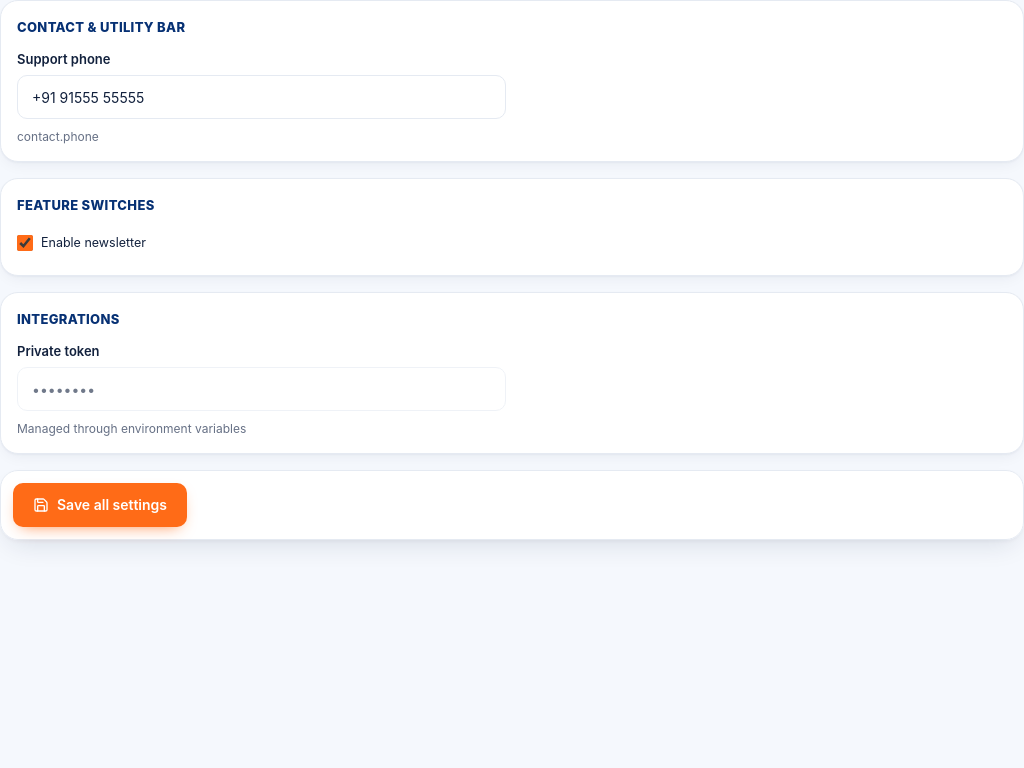
Test: SettingsForm › submits edited dotted settings as canonical flat keys
Replace the text in the field labelled "Support phone" with "+91 90000 00000" at {"x": 262, "y": 97}, box [17,75,506,119]
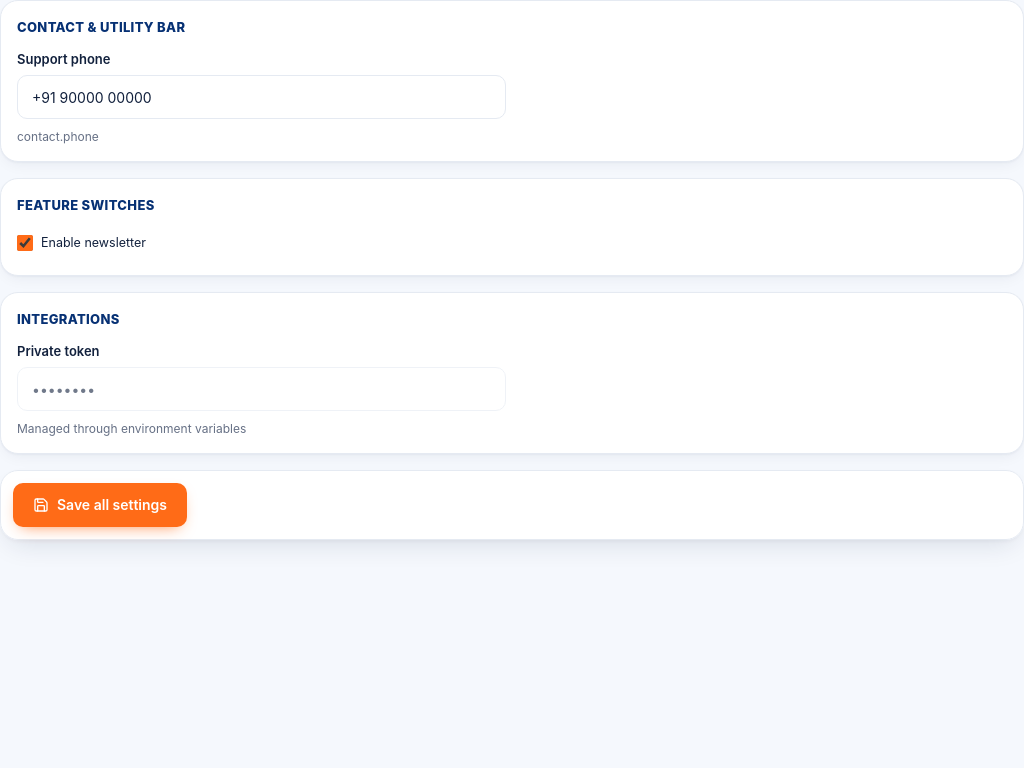
Click the checkbox labelled "Enable newsletter" at {"x": 25, "y": 243}, box [17,235,33,251]
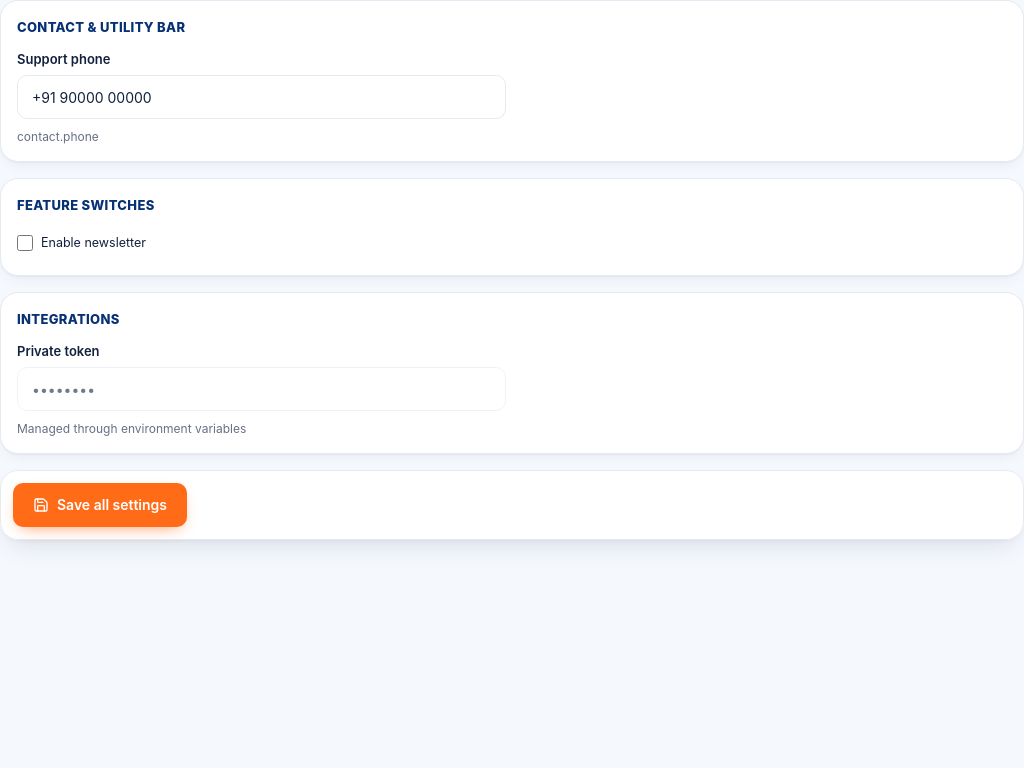
Click the button "Save all settings" at {"x": 100, "y": 505}, box [13,483,187,527]
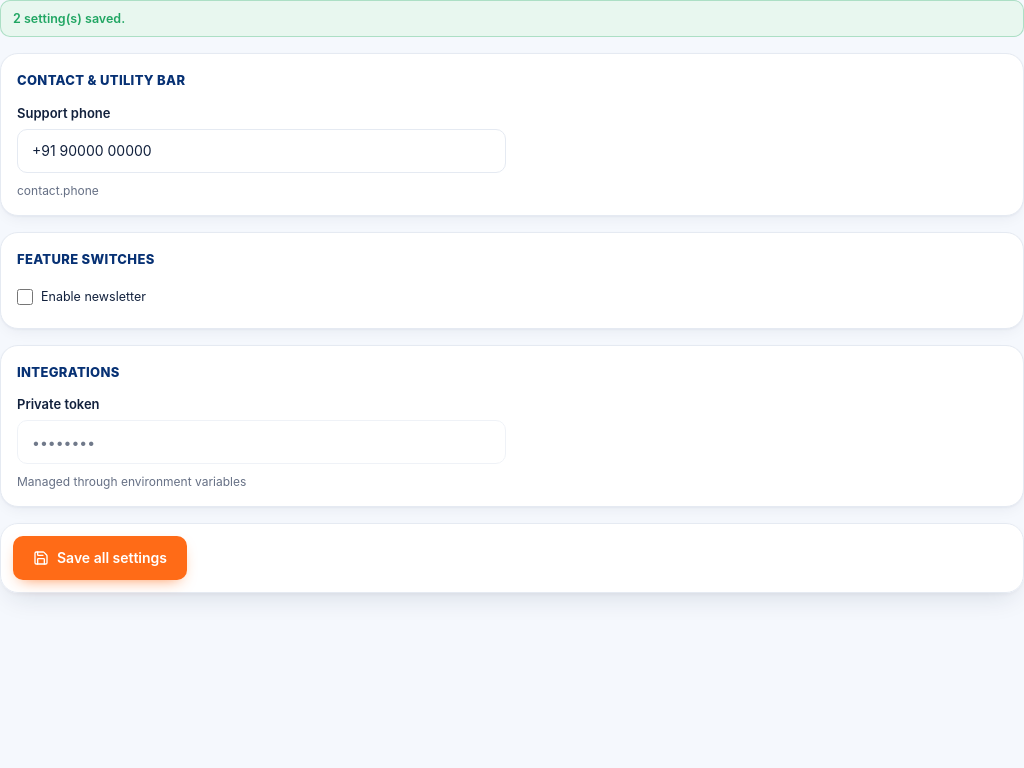
Check: the message reads "2 setting(s) saved.", box [13,11,125,26]
